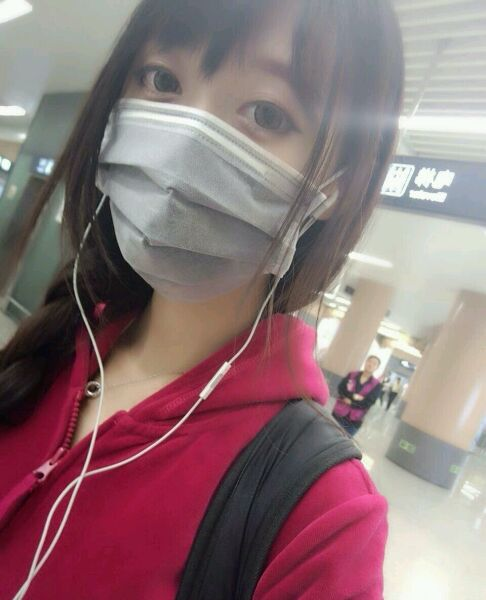face_mask: (110, 0, 323, 294)
